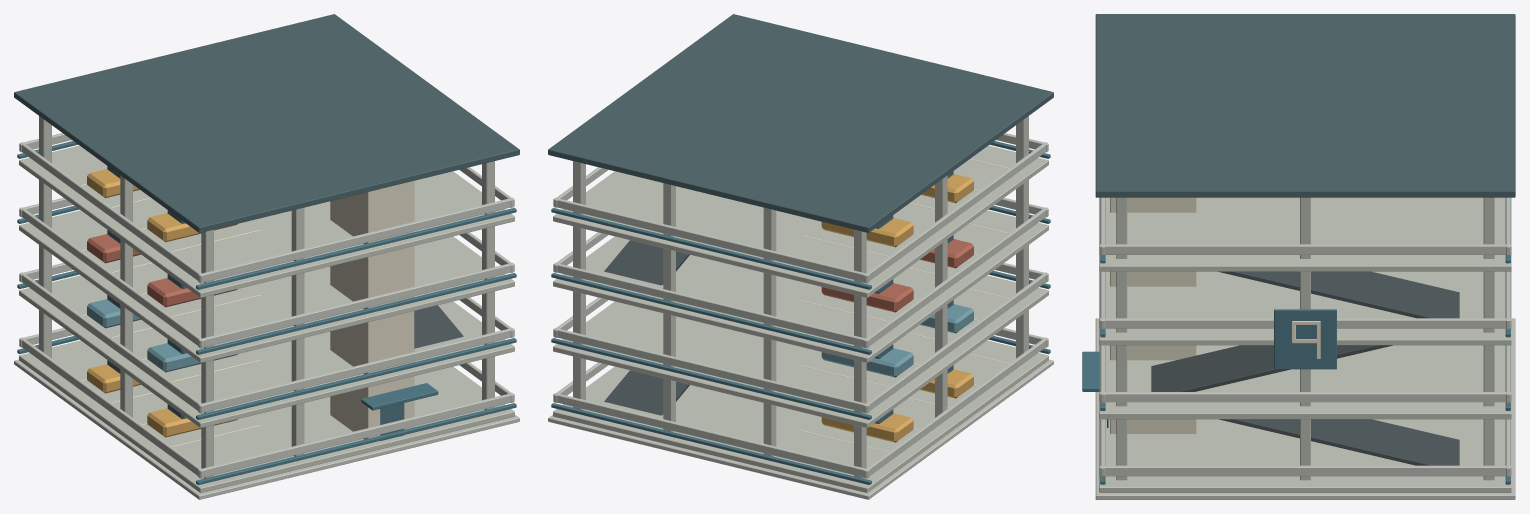
The model's file is parking-tower-4x4-4f.glb.
3 renders of one model, left to right at view 1: azimuth 30°, elevation 25°; view 2: azimuth 150°, elevation 25°; view 3: azimuth 270°, elevation 25°, orthographic. The views are drawn at different scales.
Parts seen in each view (by area): view 1: FacilityCombinedMesh; view 2: FacilityCombinedMesh; view 3: FacilityCombinedMesh.
Part boxes in pixels (x1,y1,x2,y2): FacilityCombinedMesh: [14, 14, 519, 499]; FacilityCombinedMesh: [548, 14, 1053, 499]; FacilityCombinedMesh: [1082, 14, 1515, 499].
Size of the model in its own units: 16 by 12.99 by 16.5.
